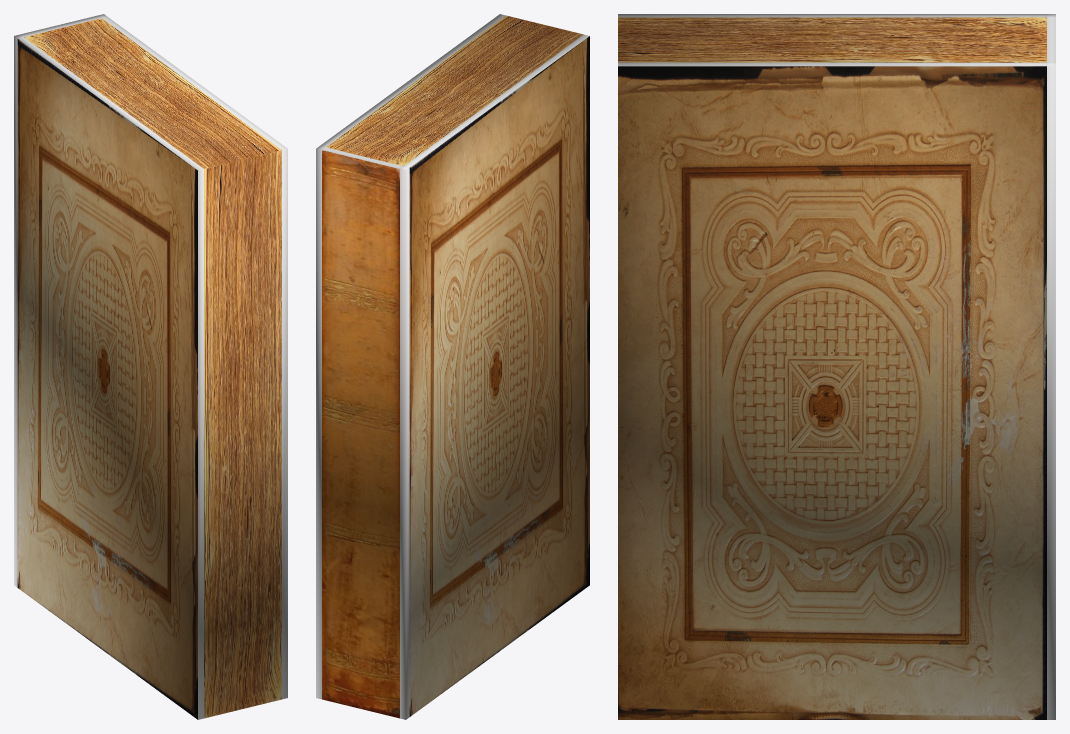
The model's file is Book.fbx.
The picture shows the model from 3 angles, left to right: view 1: azimuth 30°, elevation 25°; view 2: azimuth 150°, elevation 25°; view 3: azimuth 270°, elevation 25°; orthographic projection. The views are drawn at different scales.
Parts seen in each view (by area): view 1: Book; view 2: Book; view 3: Book.
Boxes of the visible parts, x1,y1,x2,y2 form: Book: [14, 14, 287, 719]; Book: [316, 14, 589, 719]; Book: [618, 14, 1055, 719].
Bounding box in the file's own units: 1.92 × 11.2 × 6.8.
